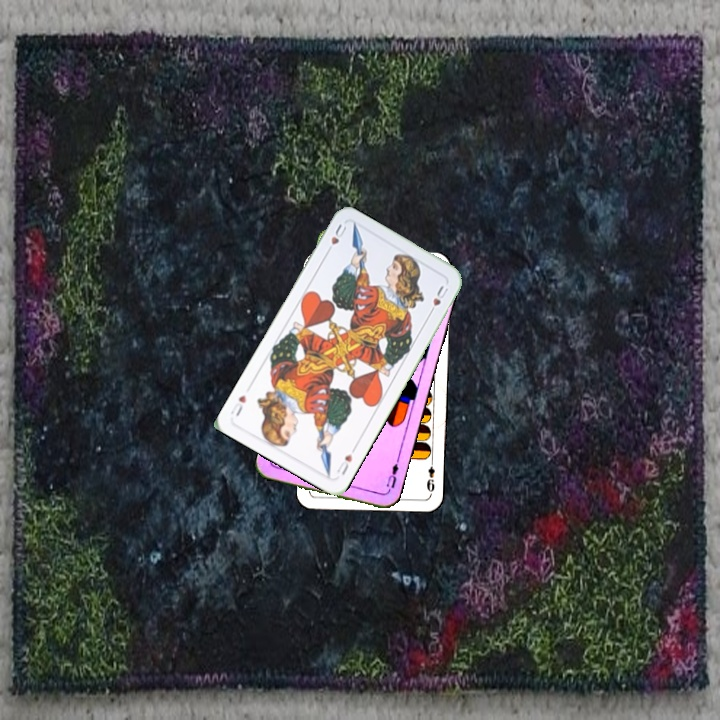E9: (423, 456, 437, 496)
EU: (382, 456, 401, 496)
HU: (322, 220, 349, 257), (332, 450, 355, 478)
